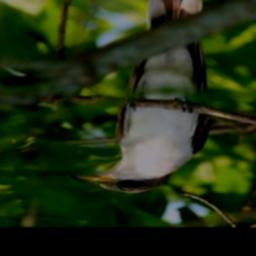Cuckoo: (68, 0, 215, 196)
